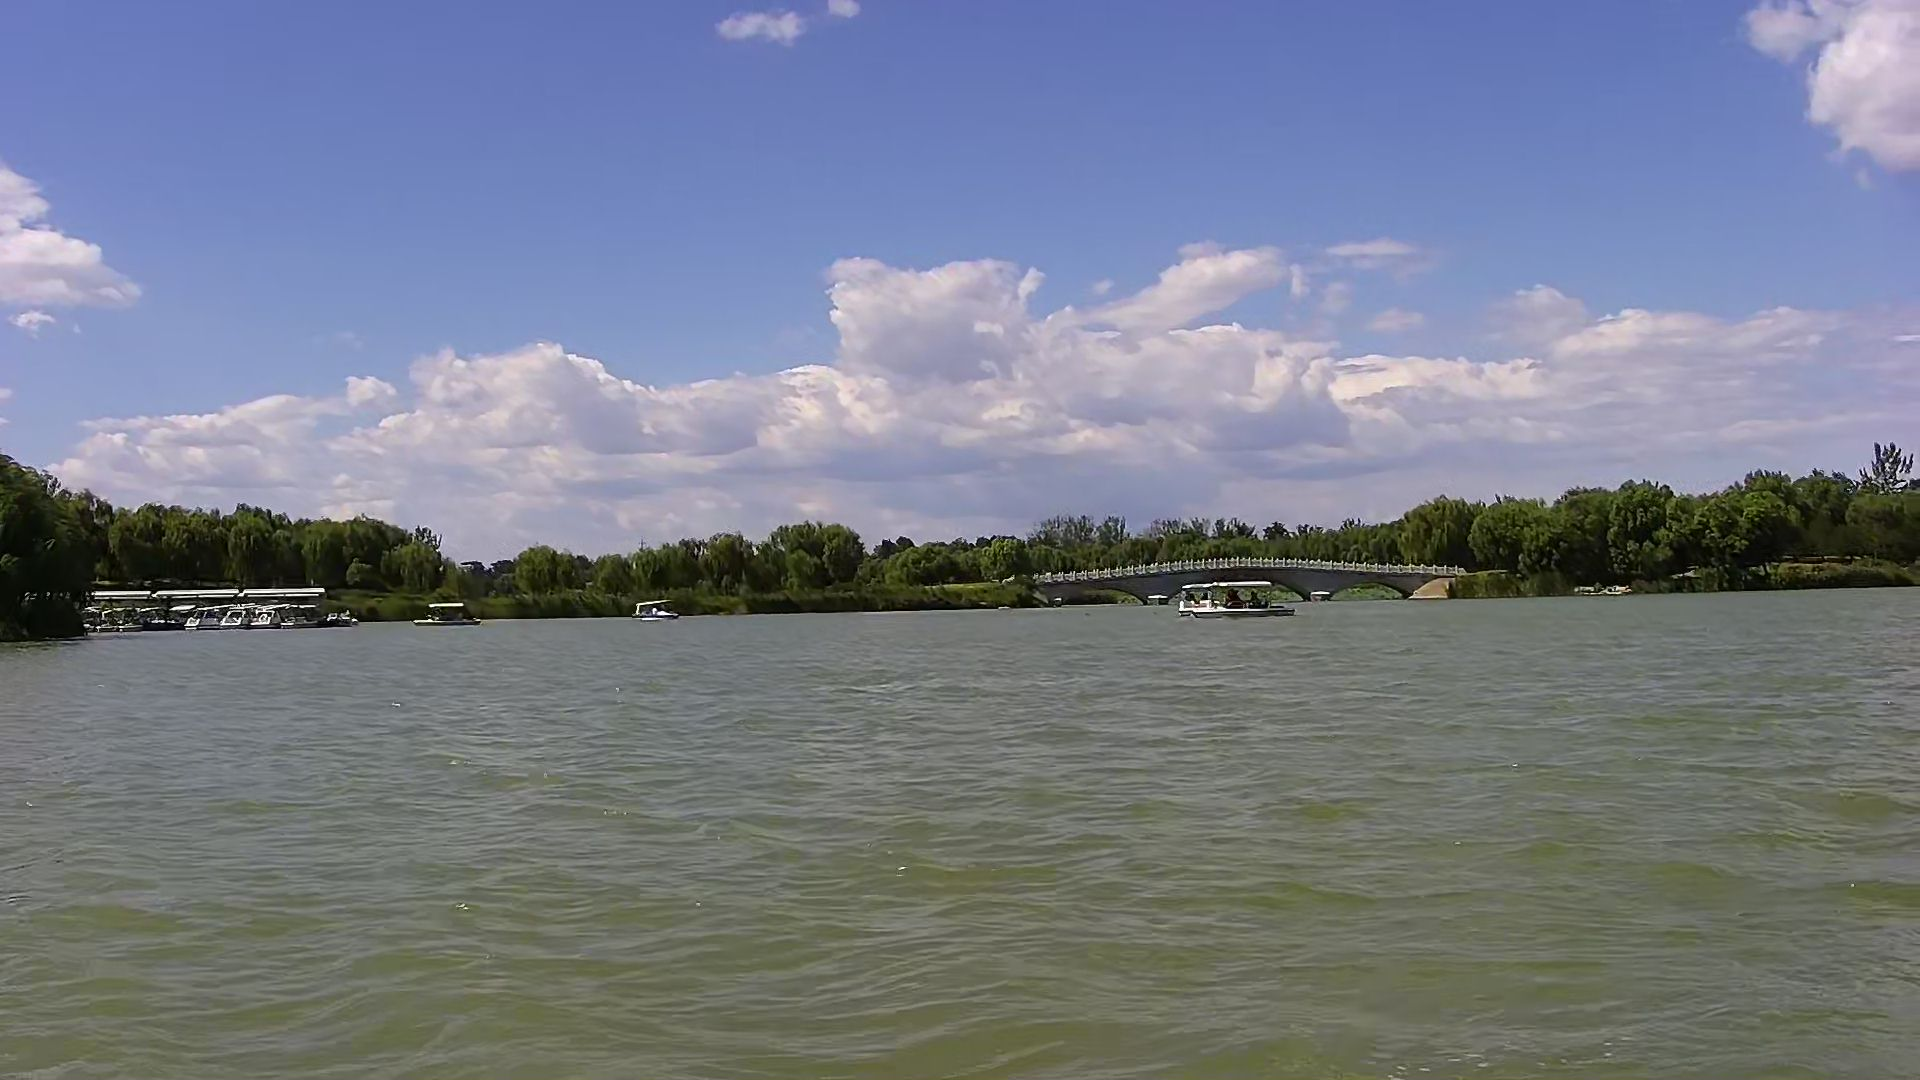boat: (1209, 576, 1298, 626), (411, 592, 493, 632), (625, 593, 683, 626), (1174, 580, 1209, 624)
bridge: (1033, 553, 1466, 603)
